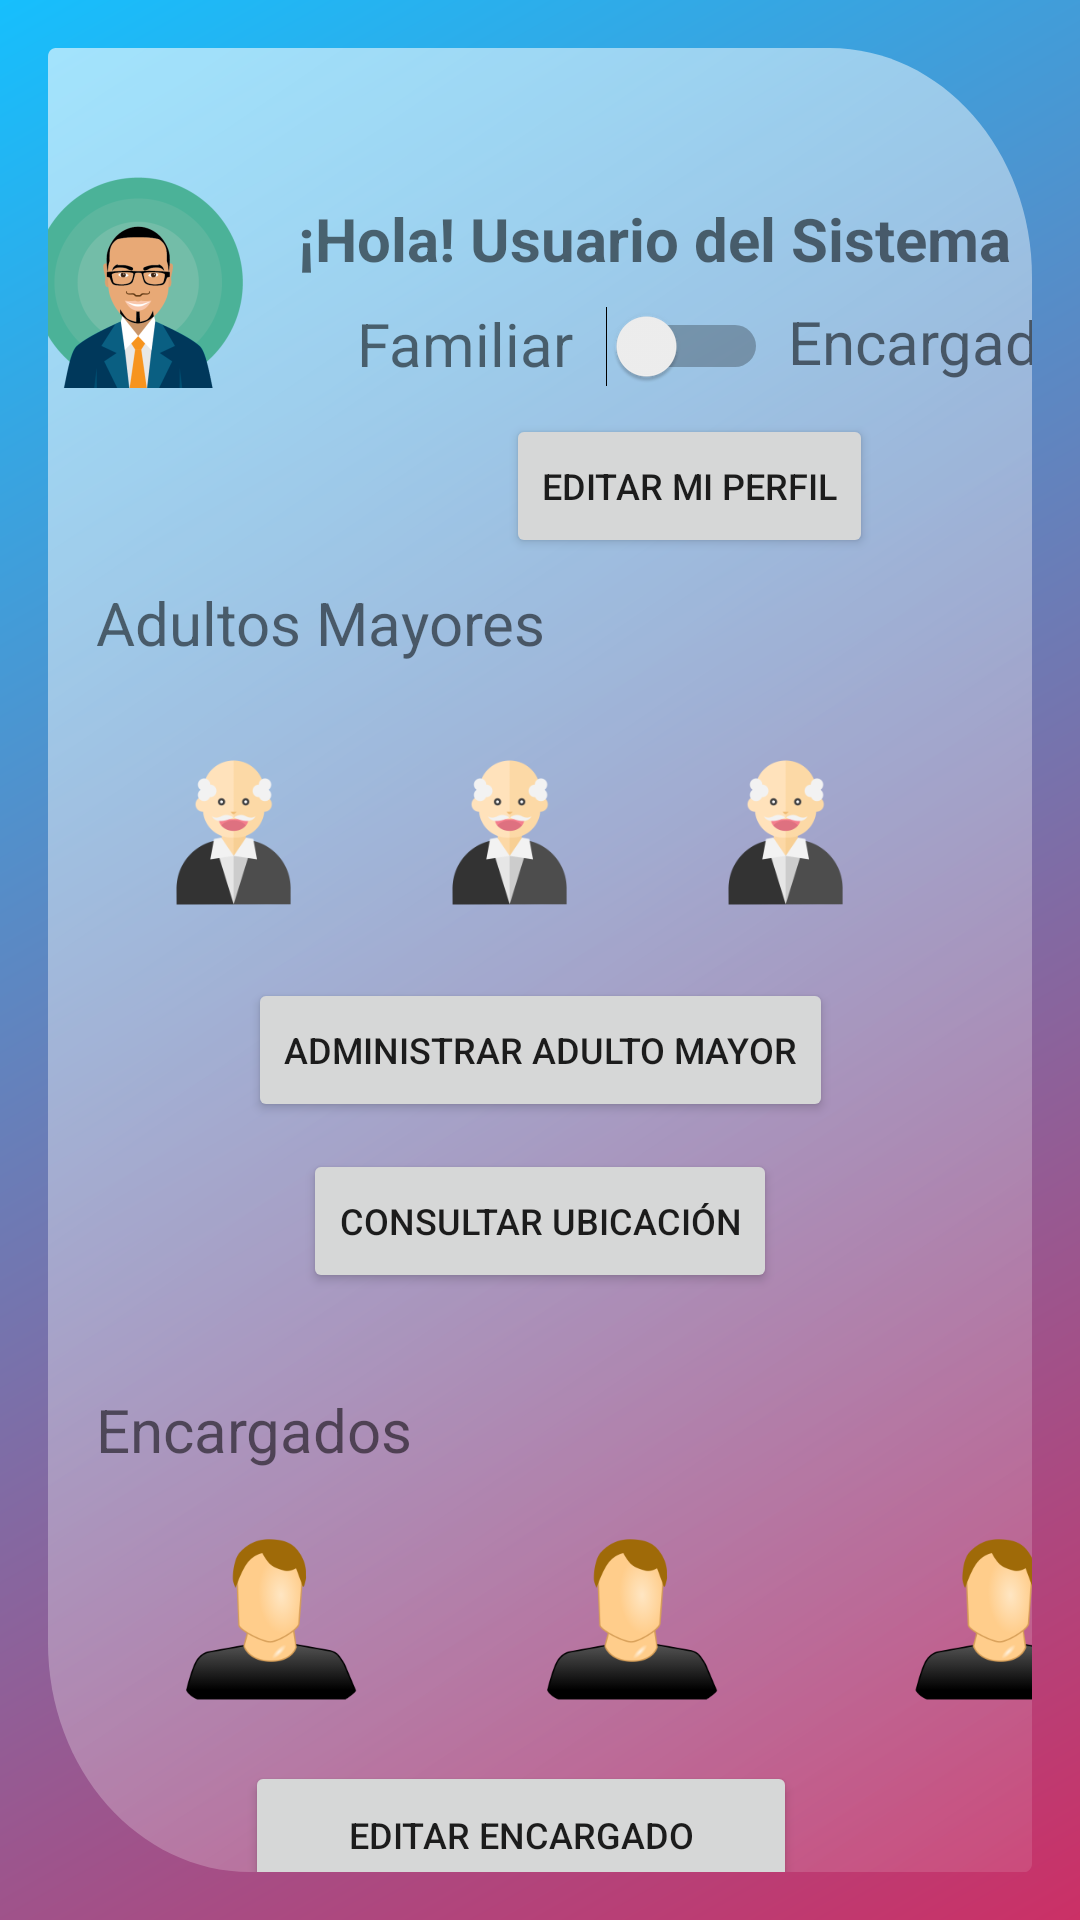

Icon bounding boxes for this 1080×1920 phone screenshot, format (x1, y1, x2, y2):
anciano user: (176, 760, 291, 905), (452, 760, 567, 905), (728, 760, 843, 905)
